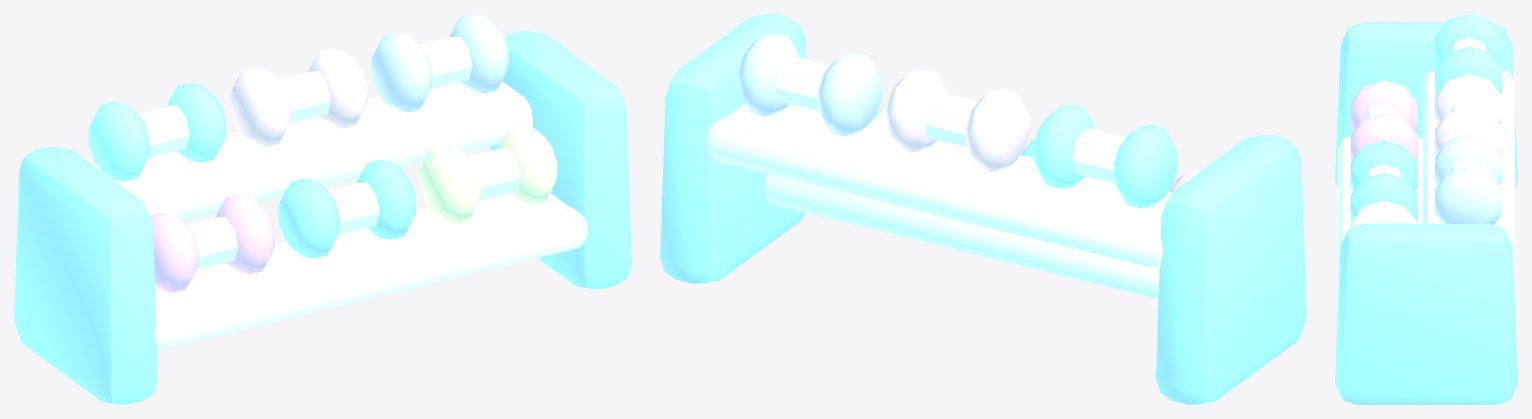
File: props__DumbbellRack.glb
3 views of the same model, side by side, from view 1: azimuth 30°, elevation 25°; view 2: azimuth 150°, elevation 25°; view 3: azimuth 270°, elevation 25° (orthographic). The views are drawn at different scales.
Visible parts, largest first — view 1: DumbbellRack; view 2: DumbbellRack; view 3: DumbbellRack.
Boxes of the visible parts, left/top/right/bottom form: DumbbellRack: left=14, top=14, right=631, bottom=404; DumbbellRack: left=660, top=14, right=1306, bottom=404; DumbbellRack: left=1335, top=14, right=1517, bottom=404.
Bounding box in the file's own units: 6.99 × 2.97 × 2.38.
